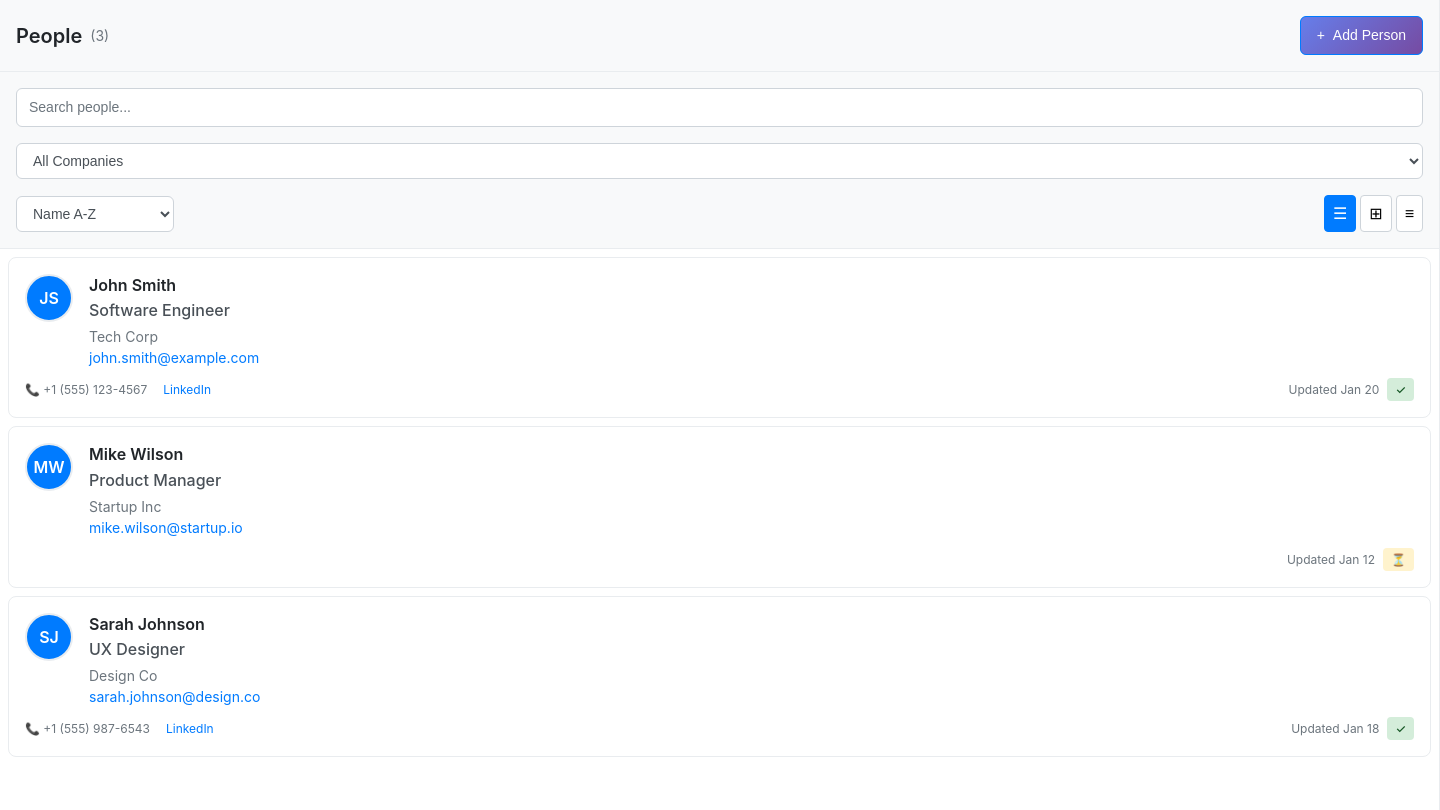
Scenario: PeopleList › clears filters when clear button is clicked
This screenshot has width=1440, height=810.
Type "test" into the field with placeholder "Search people...".
click(720, 108); type("test")  # box [16, 88, 1423, 127]
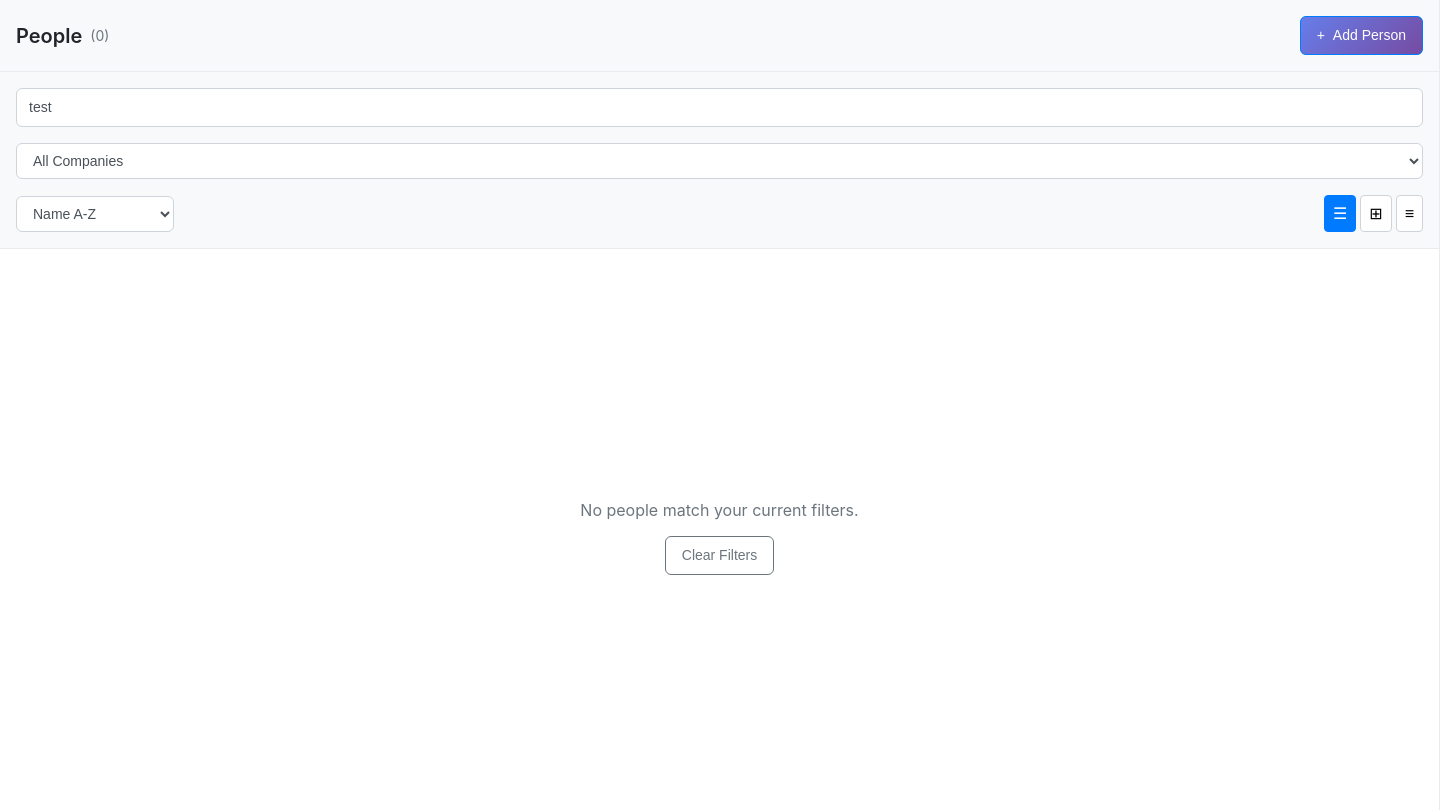
Click the button "Clear Filters".
click(720, 556)  # box [665, 536, 774, 575]
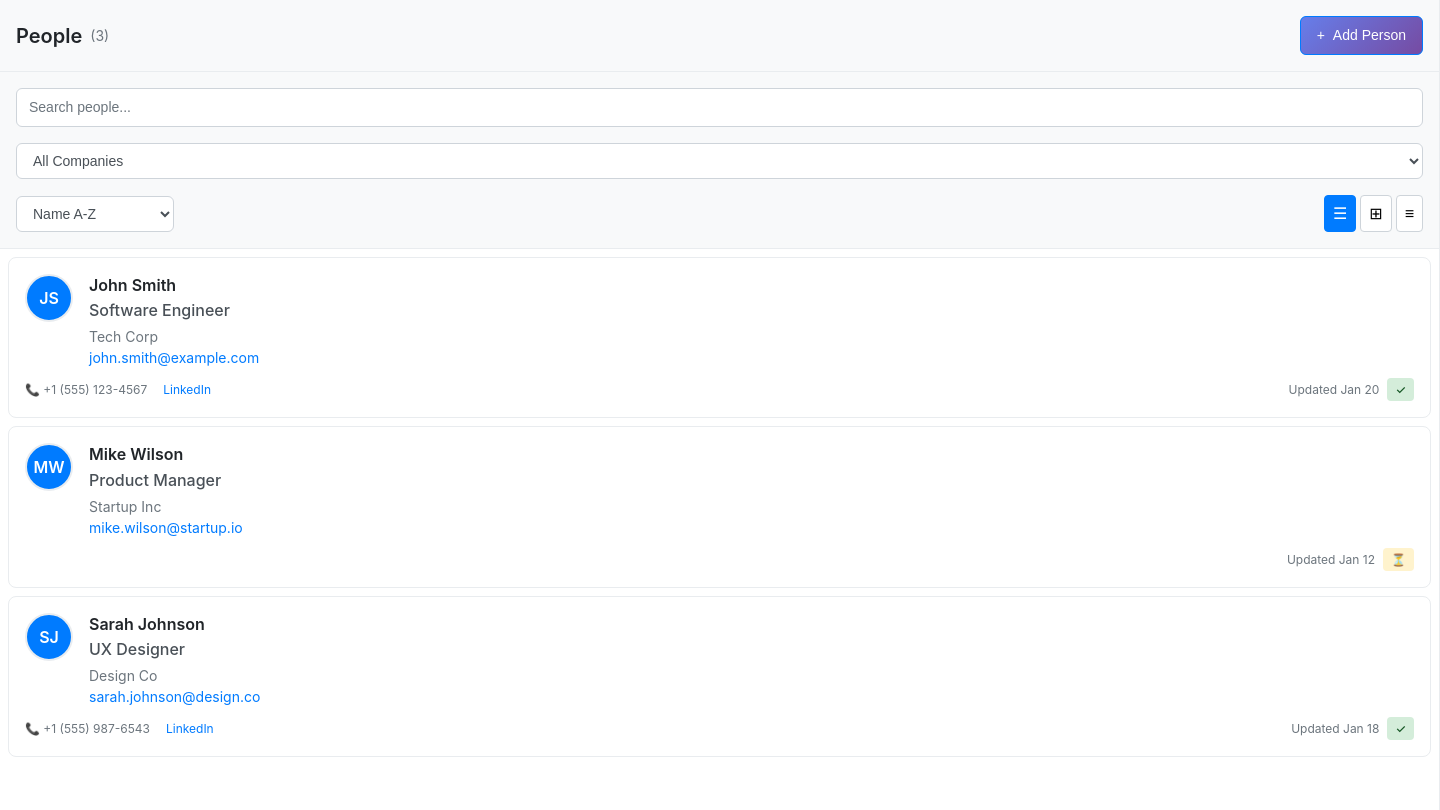
Now the field with placeholder "Search people..." is empty, box [16, 88, 1423, 127]
